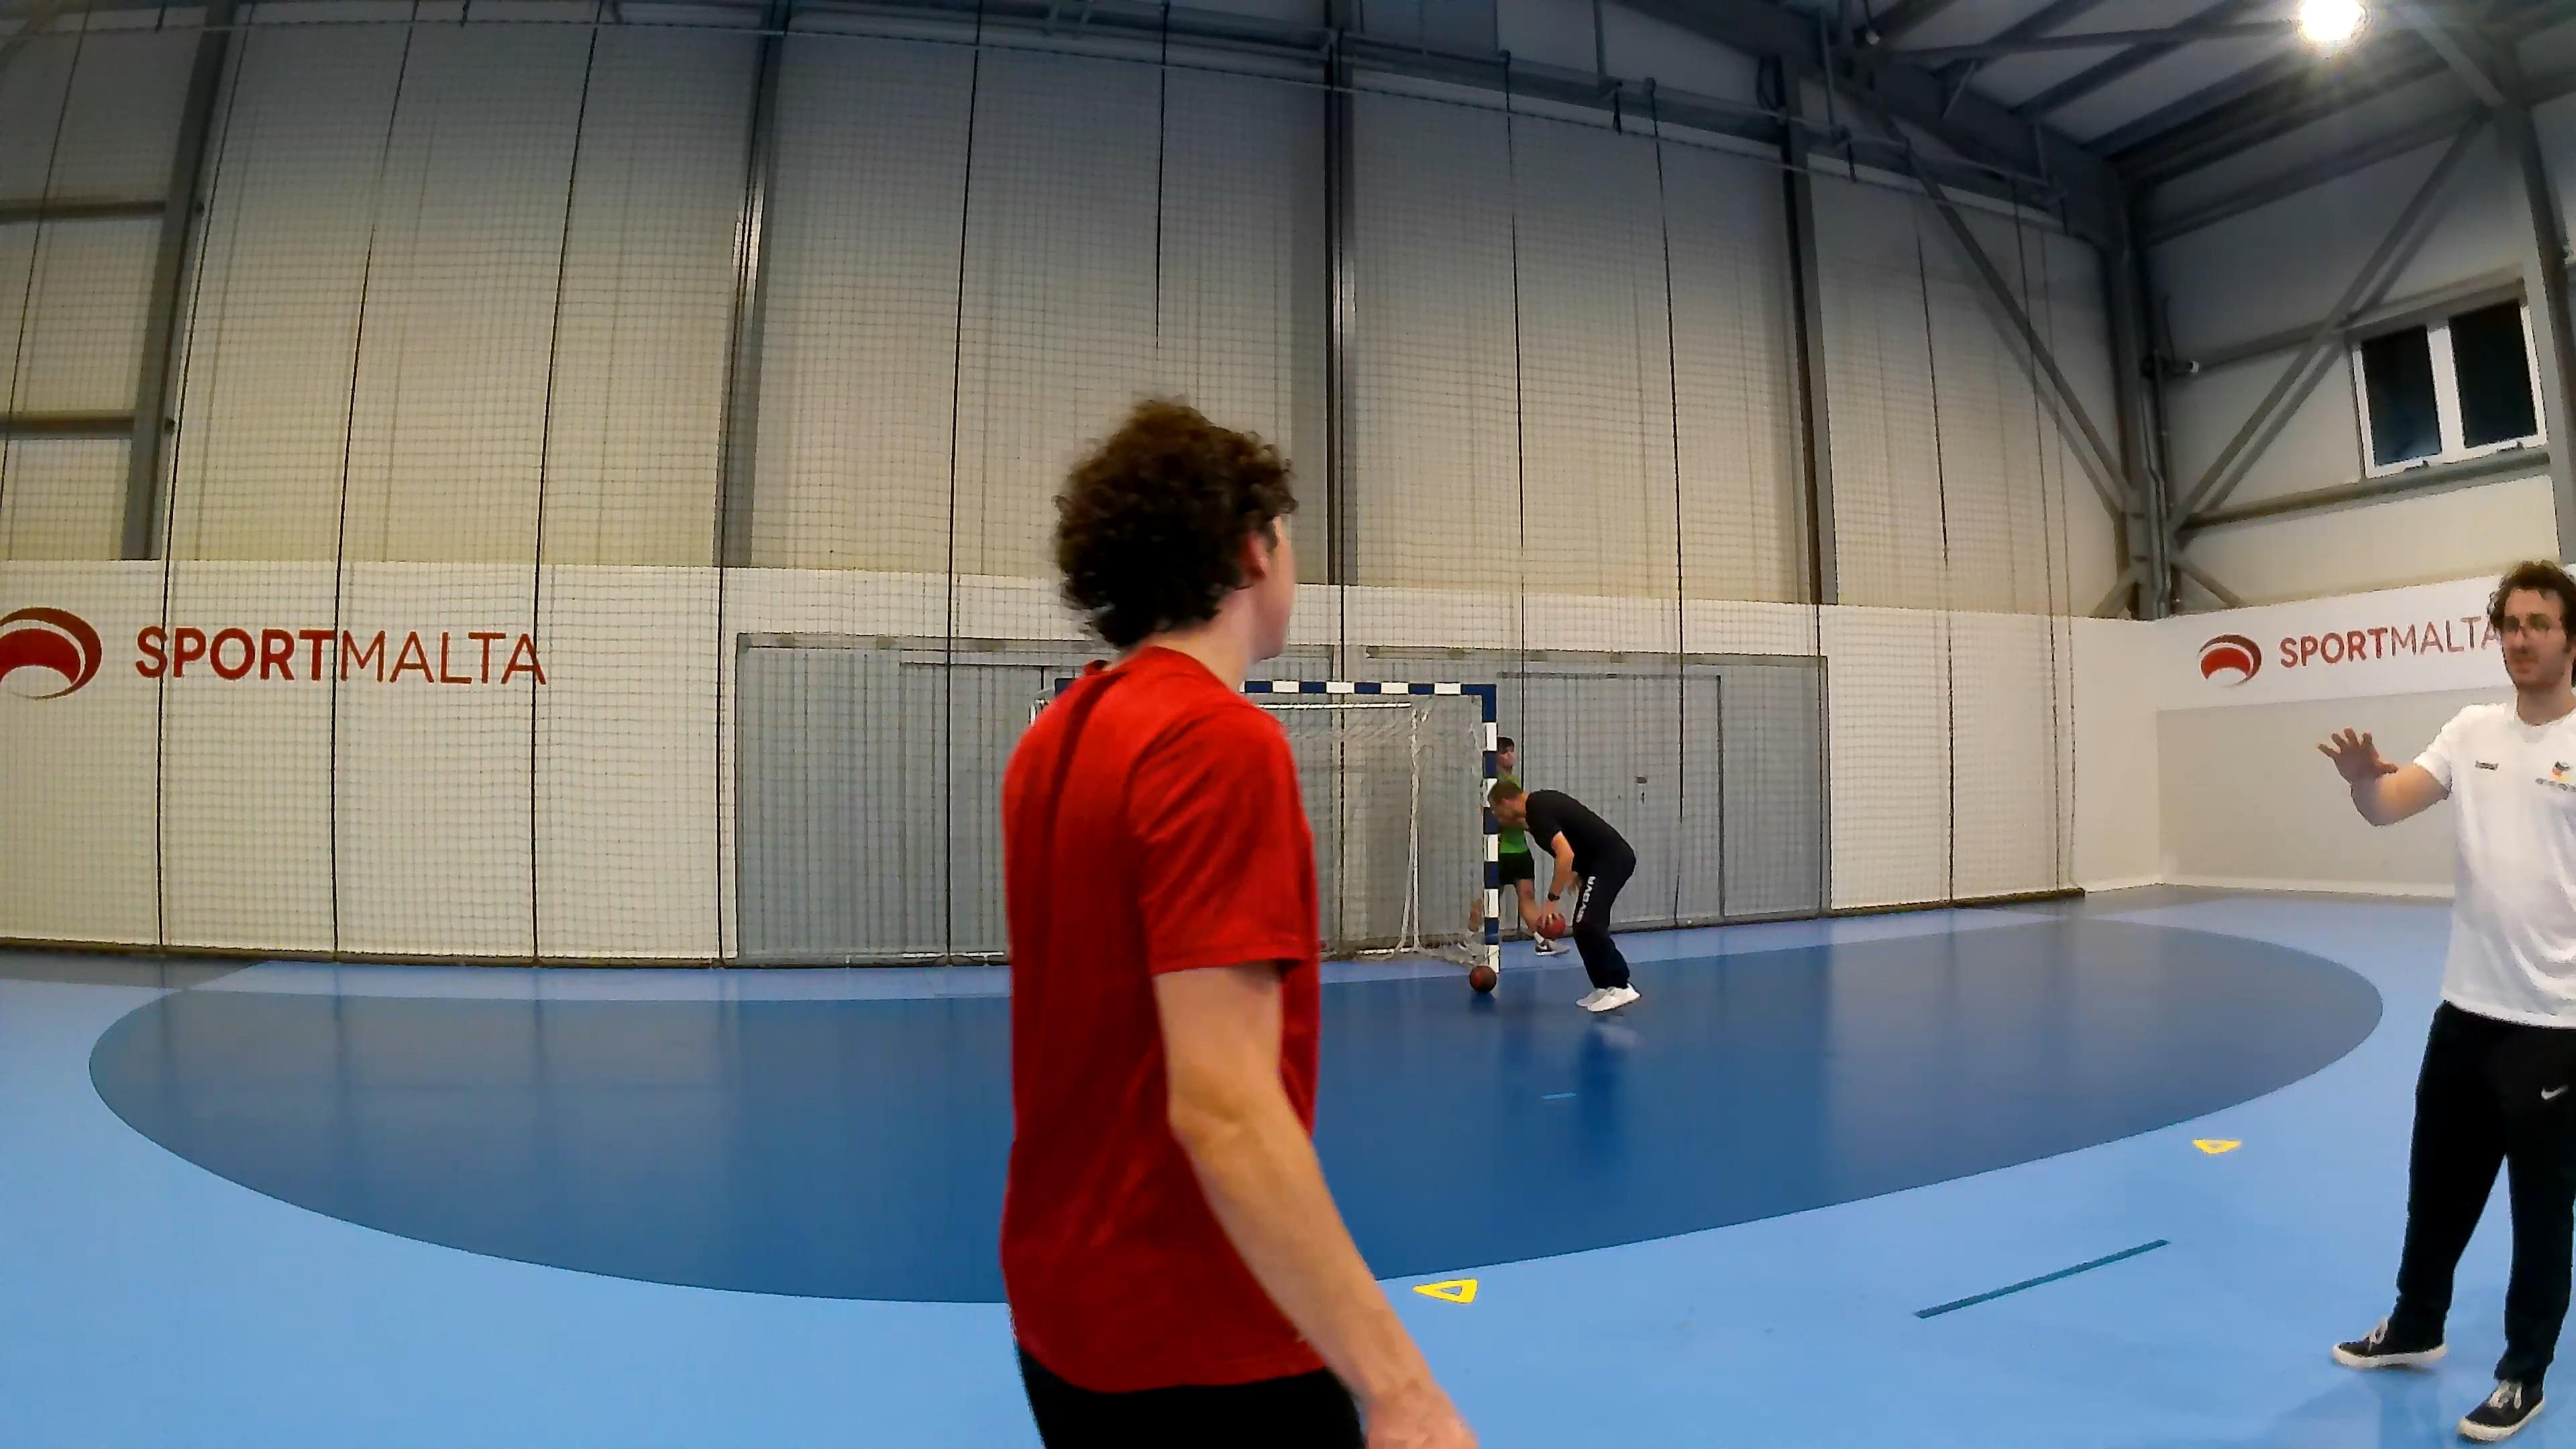handball: (1468, 962, 1497, 991)
